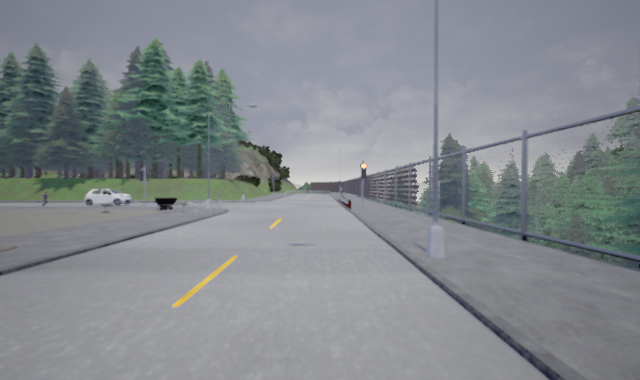pedestrian: (37, 190, 53, 206)
vehicle: (84, 188, 131, 206)
